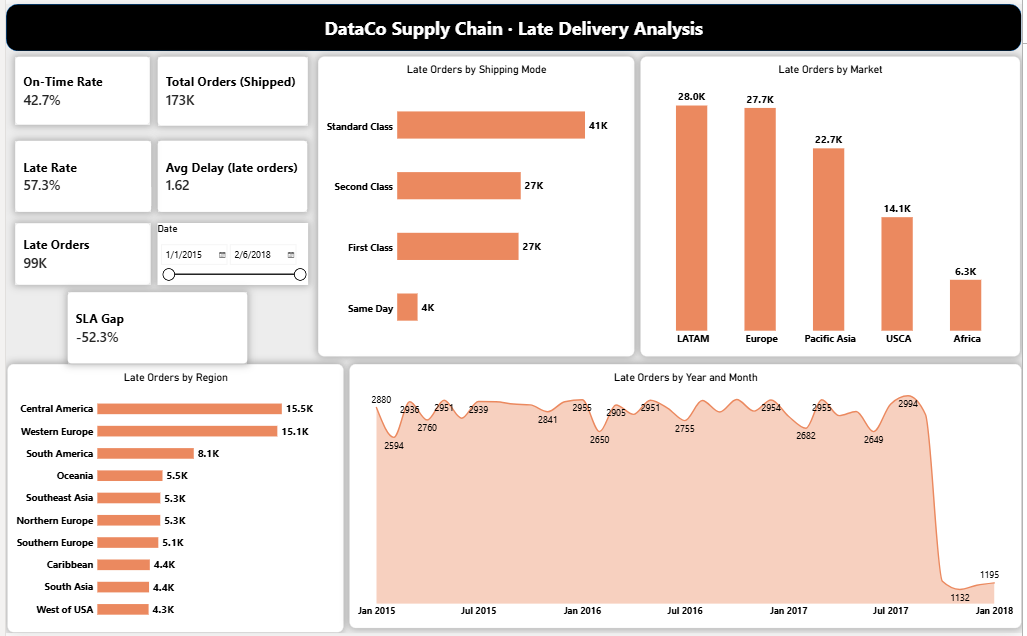

The dashboard page shown, as its layout file describes it:
{"tool":"powerbi","page":{"name":"Delivery Performance","canvas":[2100,1300],"ordinal":0},"visuals":[{"type":"cardVisual","fields":{"Data":["Table.On-Time Rate"]},"box":[18.3,109.8,279.2,142],"z":0},{"type":"cardVisual","fields":{"Data":["Table.Late Orders"]},"box":[18.3,451.5,280.7,128.1],"z":1000},{"type":"cardVisual","fields":{"Data":["Table.Avg Delay (late orders)"]},"box":[313.1,282.1,310,148.8],"z":2000},{"type":"clusteredBarChart","title":"Late Orders by Shipping Mode","fields":{"Category":["Supply Chain dataa.Shipping Mode"],"Y":["Table.Late Orders"]},"box":[644.9,108.5,654.2,620.1],"z":4000},{"type":"clusteredBarChart","title":"Late Orders by Region","fields":{"Category":["Supply Chain dataa.Order Region"],"Y":["Table.Late Orders"]},"box":[3.1,744.1,694.5,555],"z":5000},{"type":"clusteredColumnChart","fields":{"Category":["Supply Chain dataa.Market"],"Y":["Table.Late Orders"]},"box":[1311.5,108.5,784.4,620.1],"z":6000},{"type":"shape","box":[0,0,2099,97.6],"z":7000},{"type":"slicer","title":"Date","fields":{"Values":["DateTable.Date"]},"box":[314.2,451.5,311.2,128.1],"z":8000},{"type":"areaChart","fields":{"Category":["DateTable.Date.Variation.Date Hierarchy.Year","DateTable.Date.Variation.Date Hierarchy.Month"],"Y":["Table.Late Orders"]},"box":[710,744.1,1389,545.7],"z":10000},{"type":"cardVisual","fields":{"Data":["Table.Total Orders (Shipped)"]},"box":[314.2,109.8,311.2,143.4],"z":11000},{"type":"cardVisual","fields":{"Data":["Table.Late Rate"]},"box":[18.6,282.1,282.1,148.8],"z":12000},{"type":"cardVisual","fields":{"Data":["Table.SLA Gap"]},"box":[127.1,595.3,372.1,148.8],"z":12001}]}

Visuals, with their boxes in screenshot pixels (x1, y1, x2, y2), scaled from the page's 2100x1300 canvas onto the 1027x636 screenshot:
cardVisual - Table.On-Time Rate: box(9, 54, 145, 123)
cardVisual - Table.Late Orders: box(9, 221, 146, 284)
cardVisual - Table.Avg Delay (late orders): box(153, 138, 305, 211)
"Late Orders by Shipping Mode" clusteredBarChart: box(315, 53, 635, 356)
"Late Orders by Region" clusteredBarChart: box(2, 364, 341, 635)
clusteredColumnChart - Supply Chain dataa.Market x Table.Late Orders: box(641, 53, 1025, 356)
shape: box(0, 0, 1026, 48)
"Date" slicer: box(154, 221, 306, 284)
areaChart - DateTable.Date.Variation.Date Hierarchy.Year x DateTable.Date.Variation.Date Hierarchy.Month: box(347, 364, 1026, 631)
cardVisual - Table.Total Orders (Shipped): box(154, 54, 306, 124)
cardVisual - Table.Late Rate: box(9, 138, 147, 211)
cardVisual - Table.SLA Gap: box(62, 291, 244, 364)
